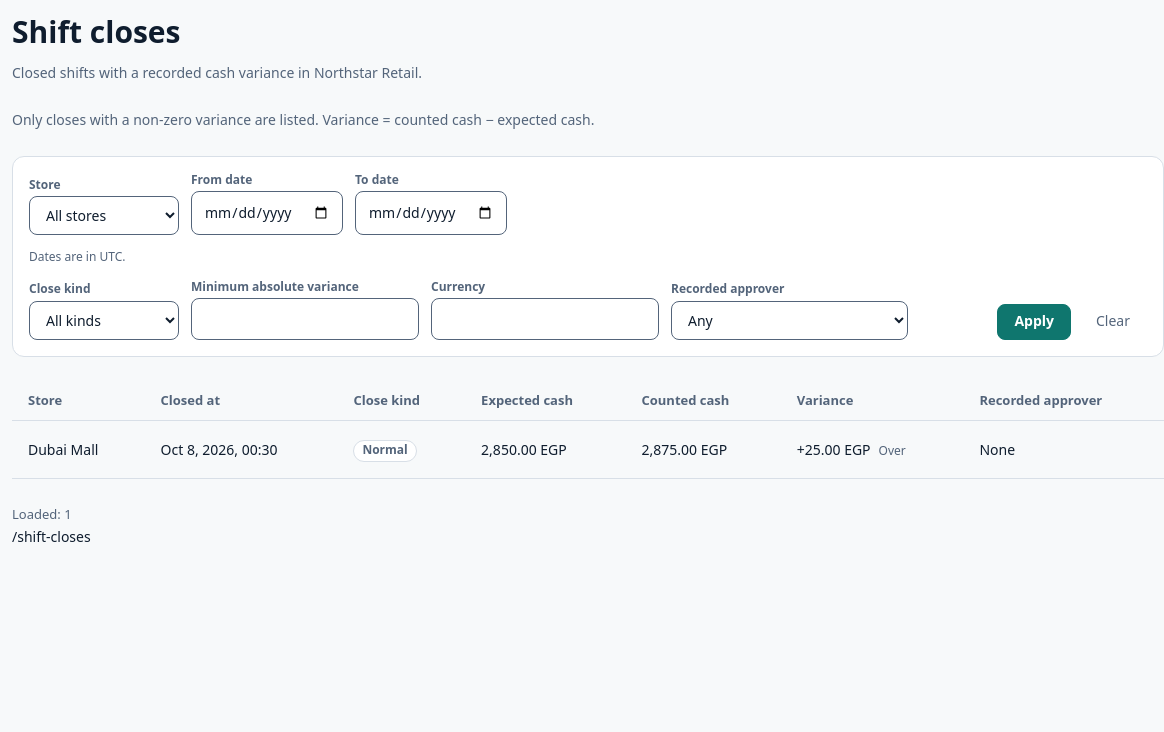
Test: ShiftCloseList (RT-18) › Apply sends the filters on a fresh first page and keeps the floor
Select "Forced close" in the dropdown labelled "Close kind": (104, 320) [29,301,179,340]
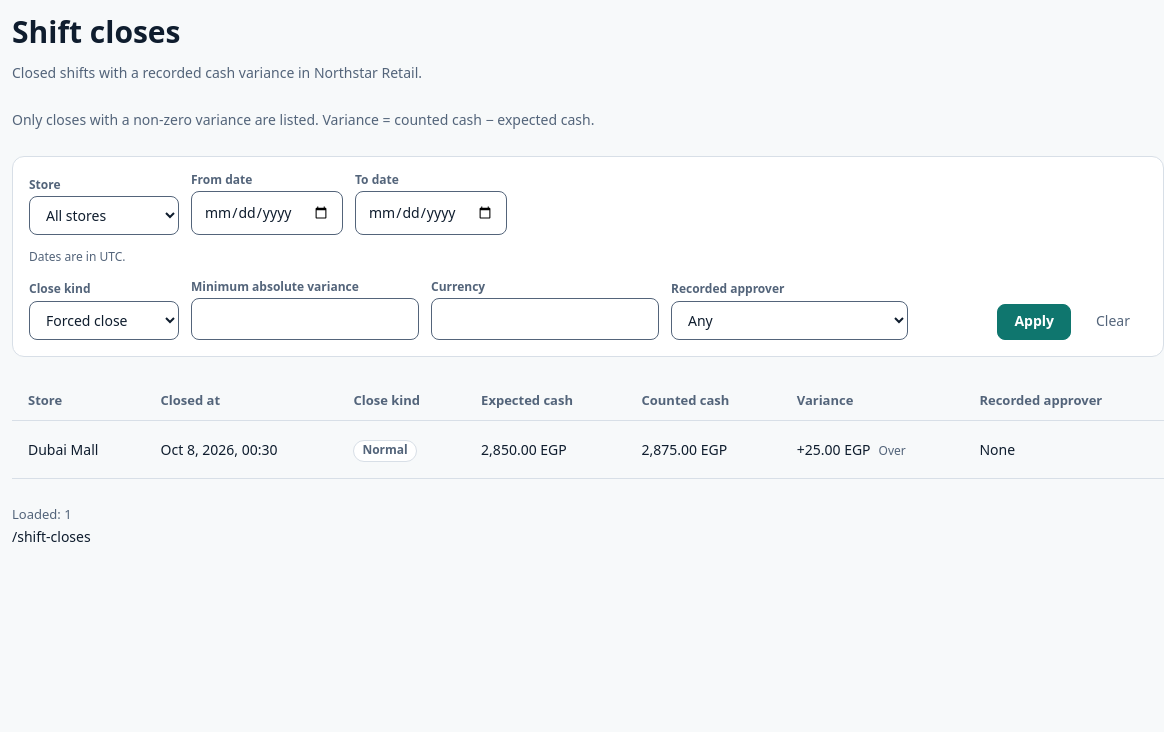
Select "Without a recorded approver" in the dropdown labelled "Recorded approver": (790, 320) [671,301,908,340]
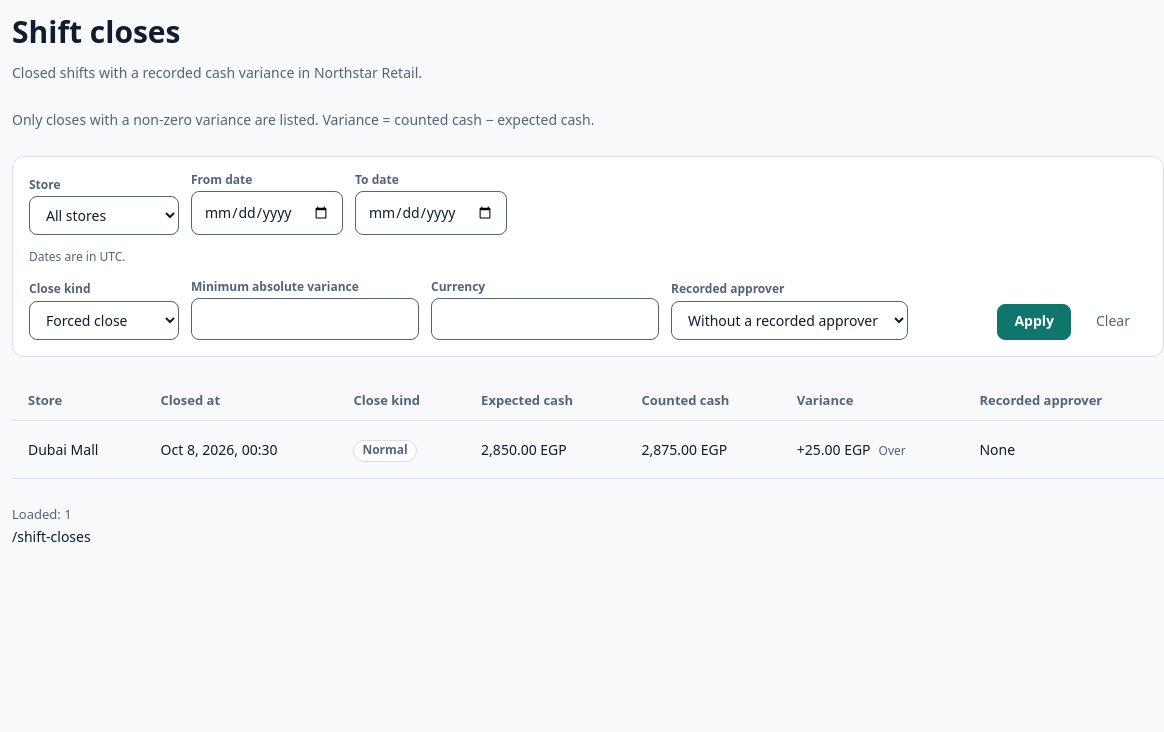
In the field labelled "Minimum absolute variance": (305, 319) [191,298,419,340], type "0"
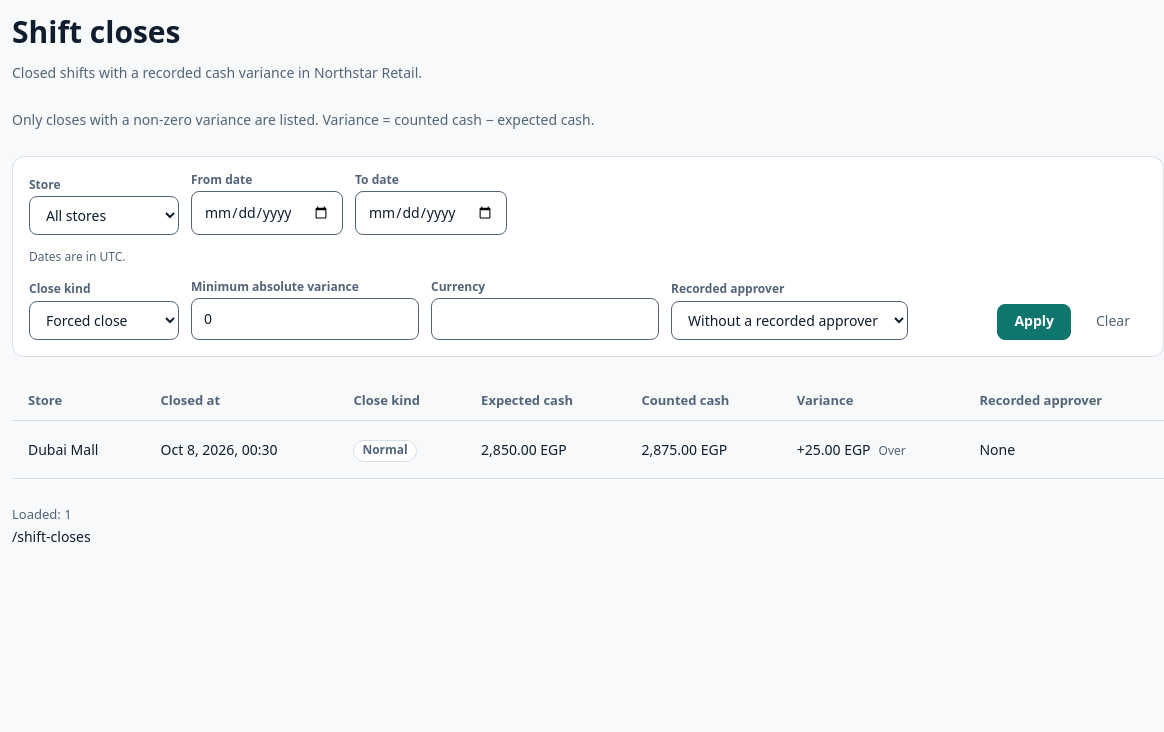
In the field labelled "Currency": (545, 319) [431,298,659,340], type "usd"
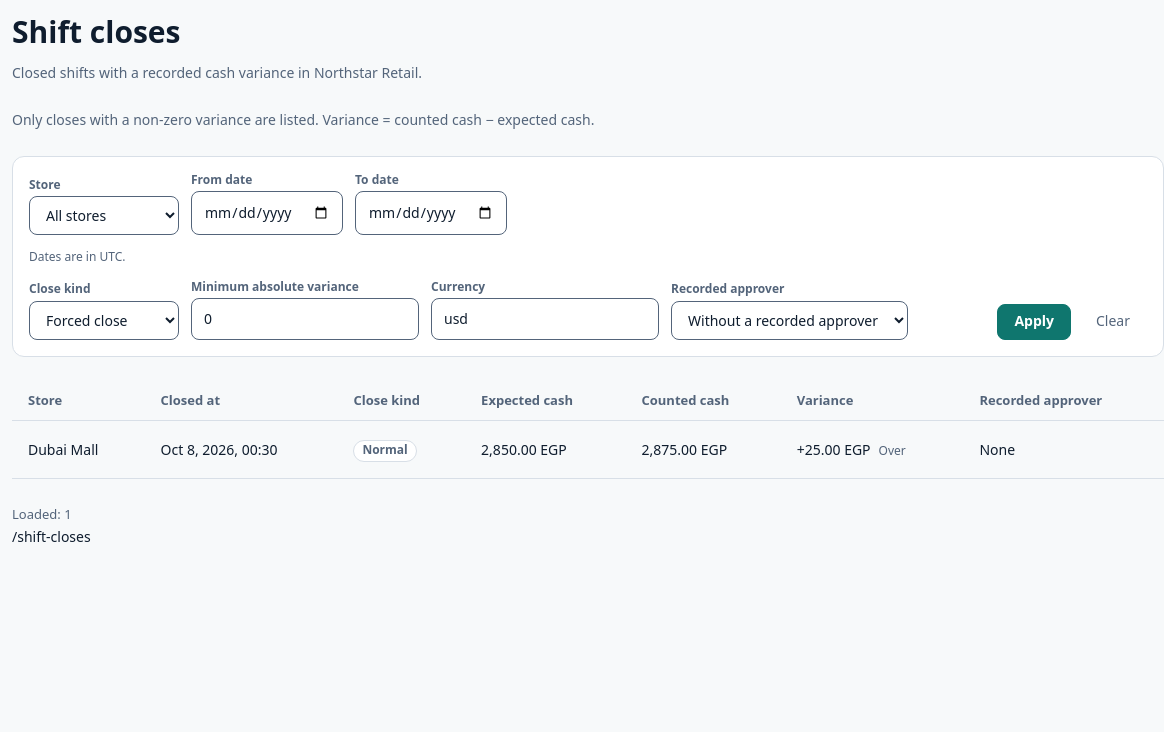
Click the button "Apply": (1034, 322) [997,304,1071,340]
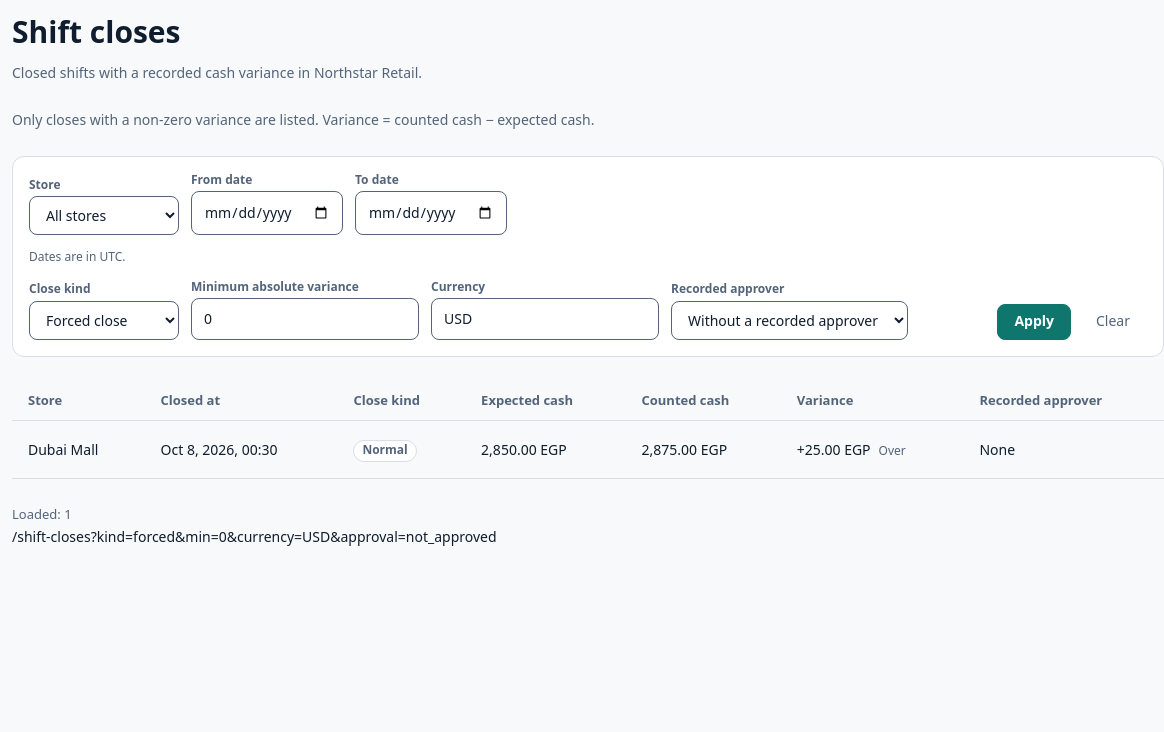
Now the text with test id "location" shows "kind=forced", box [12,527,497,546]
